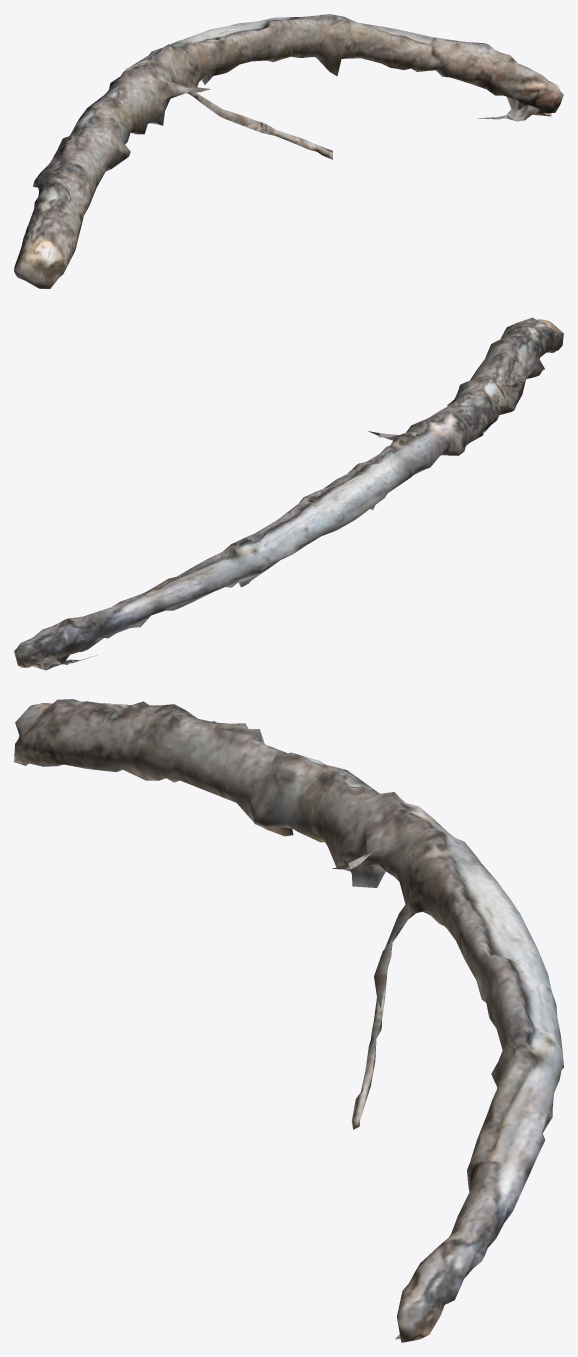
Rendered from SM_Branch_06.fbx.
The picture shows the model from 3 angles, top to bottom: view 1: azimuth 30°, elevation 25°; view 2: azimuth 210°, elevation 25°; view 3: azimuth 270°, elevation 25°; orthographic projection. The views are drawn at different scales.
Visible parts, largest first — view 1: SM_Branch_06; view 2: SM_Branch_06; view 3: SM_Branch_06.
Part boxes in pixels (x1,y1,x2,y2): SM_Branch_06: (14, 14, 563, 288); SM_Branch_06: (14, 317, 563, 670); SM_Branch_06: (14, 699, 563, 1342).
Size of the model in its own units: 218 by 102 by 48.66.
Materials: 1 (1 with a texture image).
